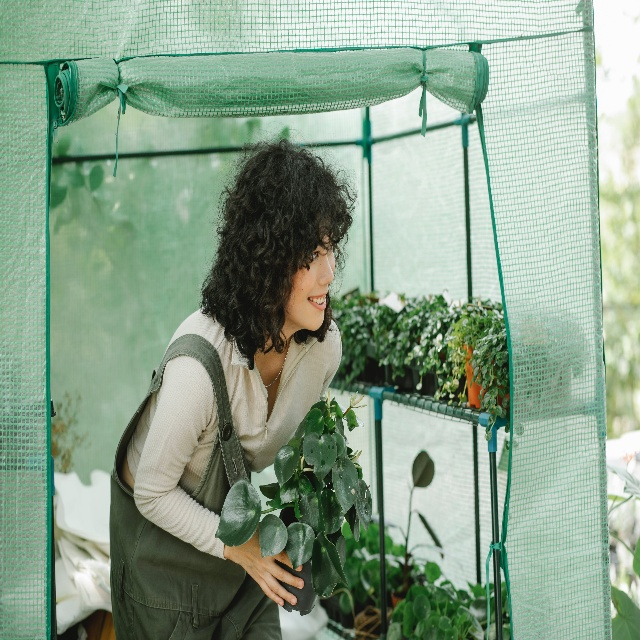Sin_guantes: (229, 521, 304, 606)
